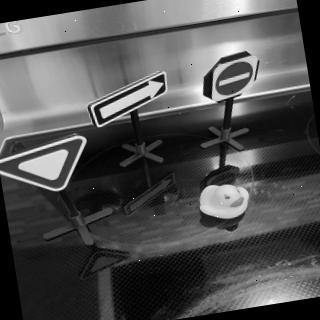duck_regular: (198, 181, 254, 225)
sign_noentry: (205, 53, 267, 107)
sign_oneway_right: (85, 72, 175, 131)
sign_yield: (1, 134, 95, 201)
